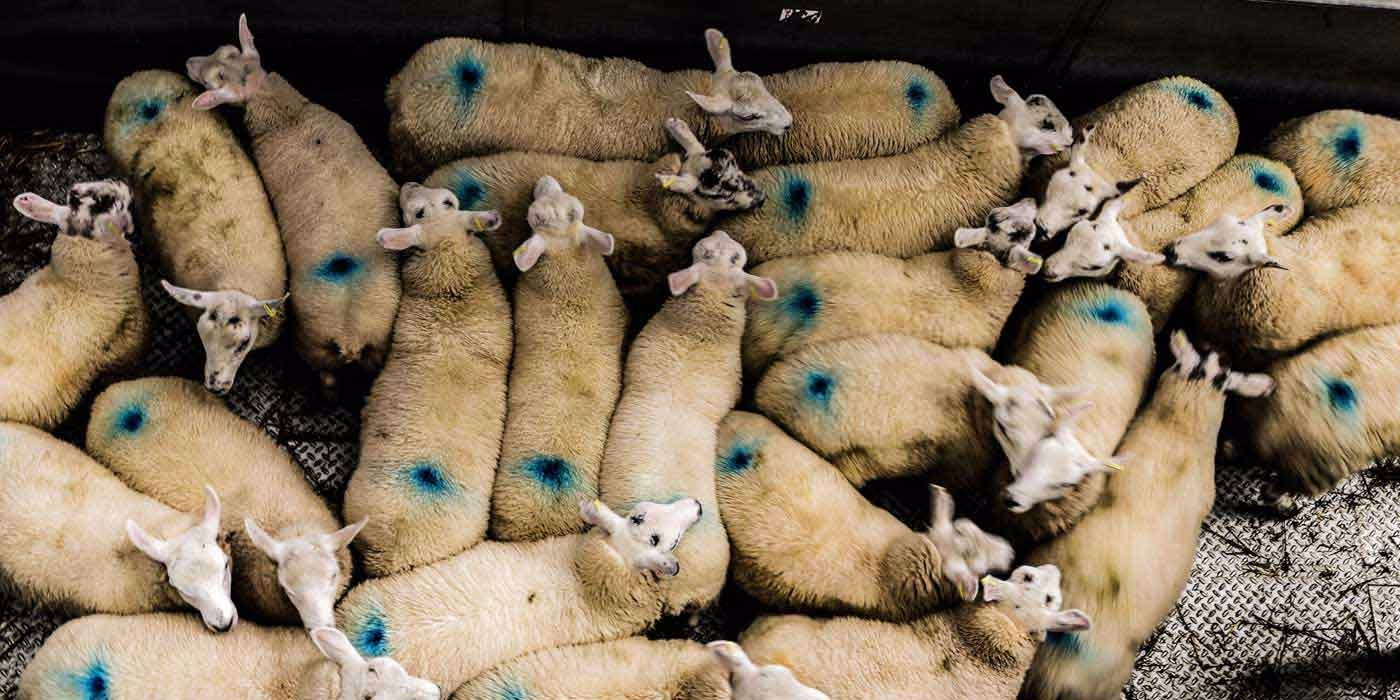sheep: (1029, 325, 1290, 686), (331, 176, 547, 606), (92, 339, 337, 663), (339, 490, 714, 700), (190, 24, 412, 378), (100, 51, 300, 416), (704, 406, 1029, 625), (647, 67, 1039, 243), (496, 167, 676, 543), (366, 25, 790, 165), (768, 165, 1078, 355), (1, 427, 272, 642), (729, 335, 1119, 484), (733, 565, 1102, 700), (1, 131, 161, 402), (702, 35, 1000, 180), (612, 231, 741, 559), (1033, 41, 1251, 231), (1043, 96, 1278, 261), (1188, 300, 1376, 492), (1194, 178, 1384, 341), (35, 594, 313, 700), (1253, 86, 1400, 184)
